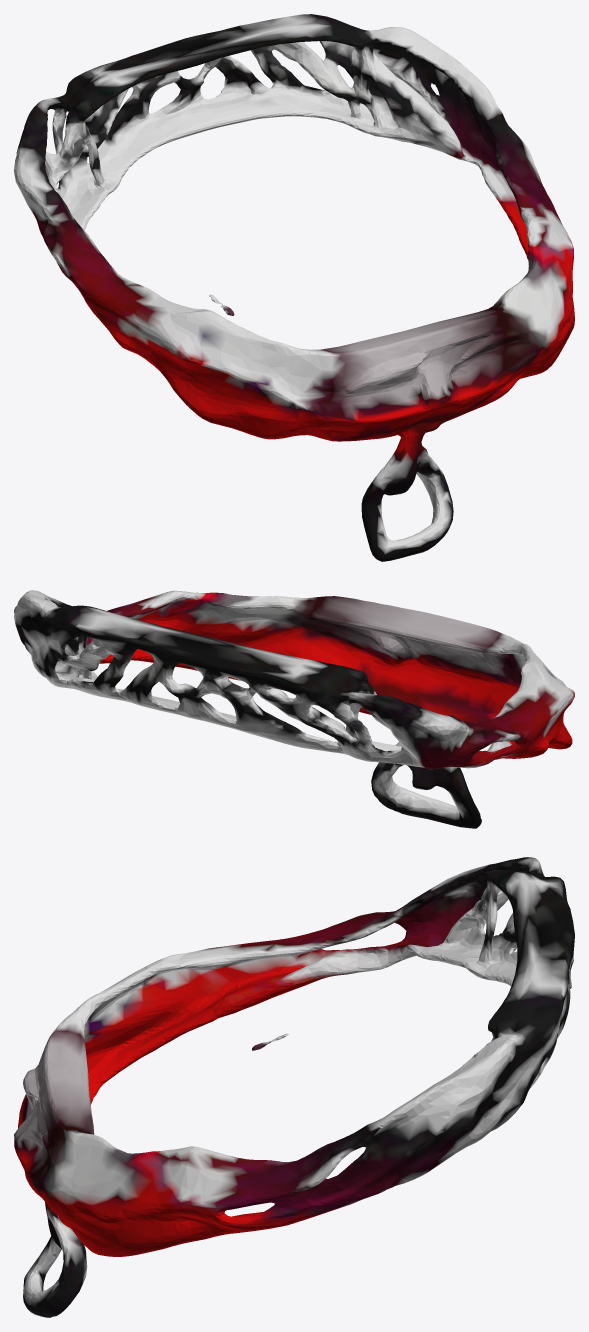
The model's file is collar.glb.
3 renders of one model, top to bottom at view 1: azimuth 30°, elevation 25°; view 2: azimuth 150°, elevation 25°; view 3: azimuth 270°, elevation 25°, orthographic. The views are drawn at different scales.
Parts seen in each view (by area): view 1: geometry_0; view 2: geometry_0; view 3: geometry_0.
Boxes of the visible parts, x1,y1,x2,y2 form: geometry_0: (14,14,574,561); geometry_0: (14,590,574,828); geometry_0: (14,857,574,1317).
Bounding box in the file's own units: 0.6875 × 0.4829 × 0.6426.
